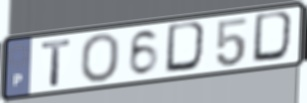5: (214, 15, 249, 68)
6: (127, 28, 160, 78)
D: (250, 9, 299, 65), (163, 20, 212, 75)
O: (79, 32, 122, 85)
T: (40, 37, 74, 88)
